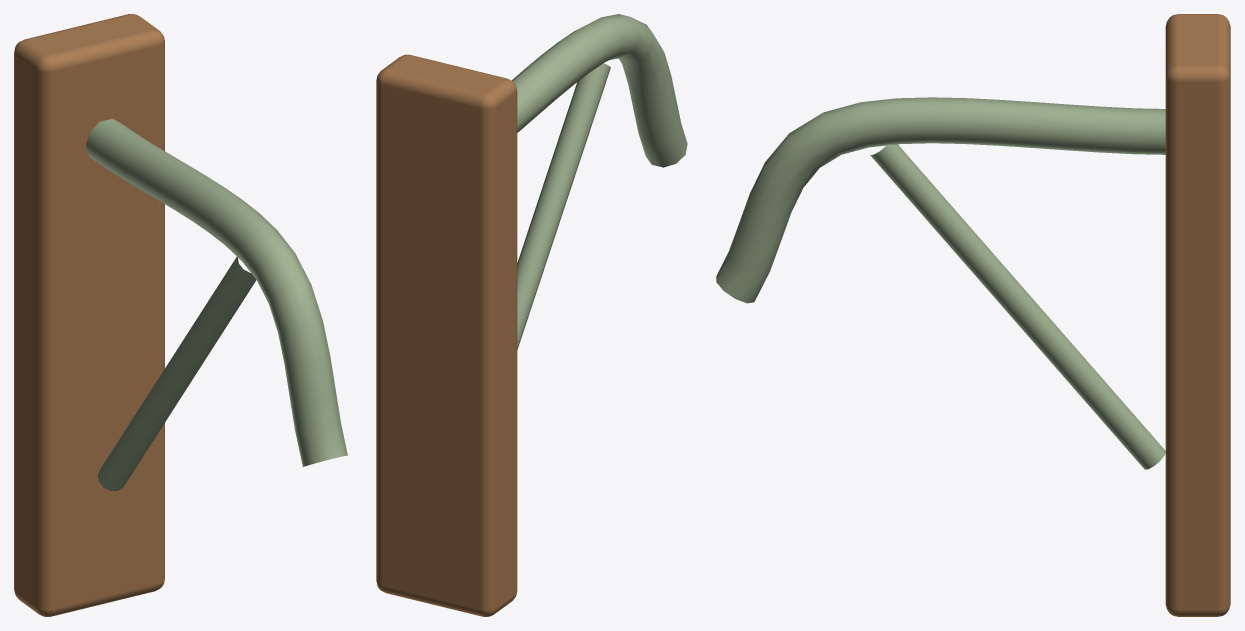
The model's file is desert-caravanserai-and-bazaar-lantern-bracket-a54035ed__30486.glb.
The picture shows the model from 3 angles, left to right: view 1: azimuth 30°, elevation 25°; view 2: azimuth 150°, elevation 25°; view 3: azimuth 270°, elevation 25°; orthographic projection. The views are drawn at different scales.
Visible parts, largest first — view 1: lantern-bracket; view 2: lantern-bracket; view 3: lantern-bracket.
Boxes of the visible parts, x1=… form: lantern-bracket: x1=14, y1=14, x2=347, y2=616; lantern-bracket: x1=376, y1=14, x2=687, y2=616; lantern-bracket: x1=716, y1=14, x2=1230, y2=616.
Size of the model in its own units: 0.1 by 0.42 by 0.3557.
